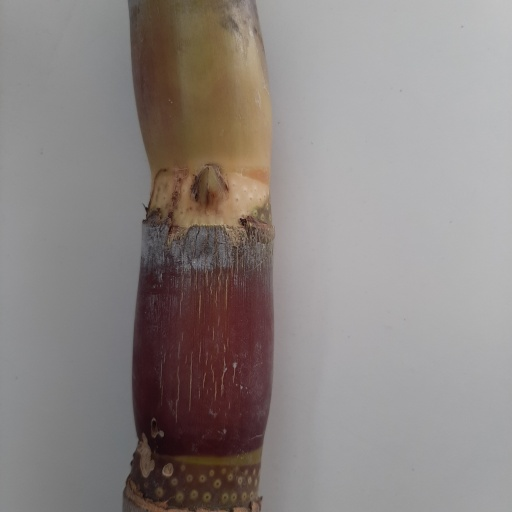Bud: (193, 161, 229, 211)
